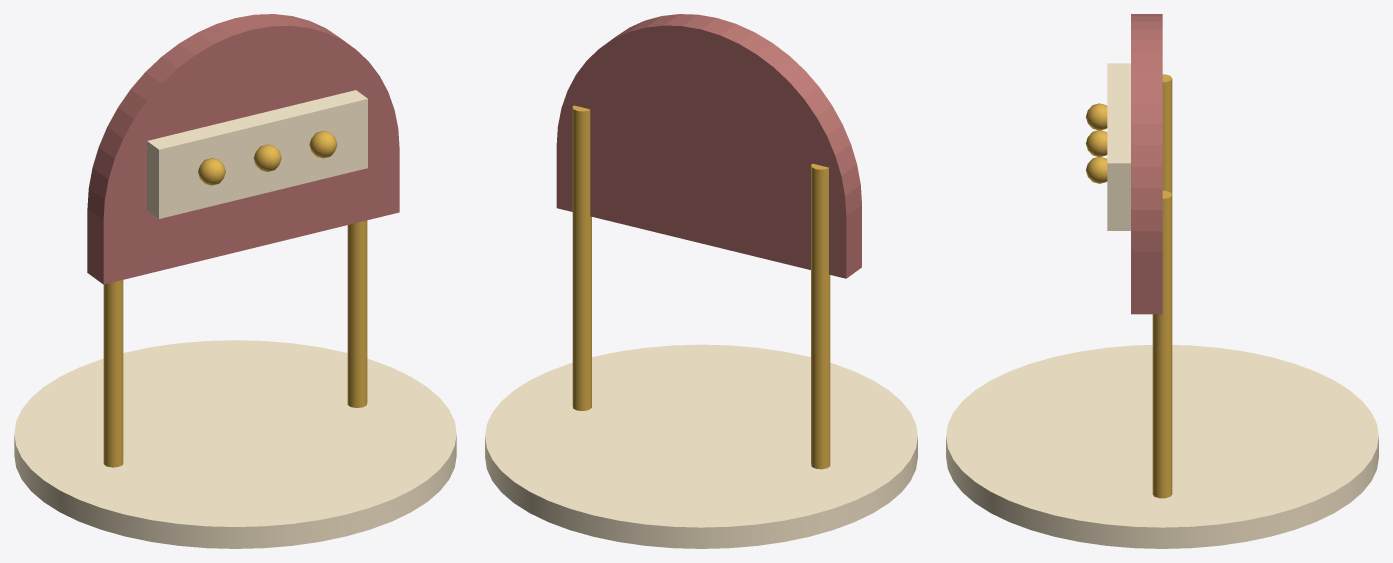
The model's file is portal.glb.
3 renders of one model, left to right at view 1: azimuth 30°, elevation 25°; view 2: azimuth 150°, elevation 25°; view 3: azimuth 270°, elevation 25°, orthographic. The views are drawn at different scales.
Size of the model in its own units: 1.1 by 1.2 by 1.1.
